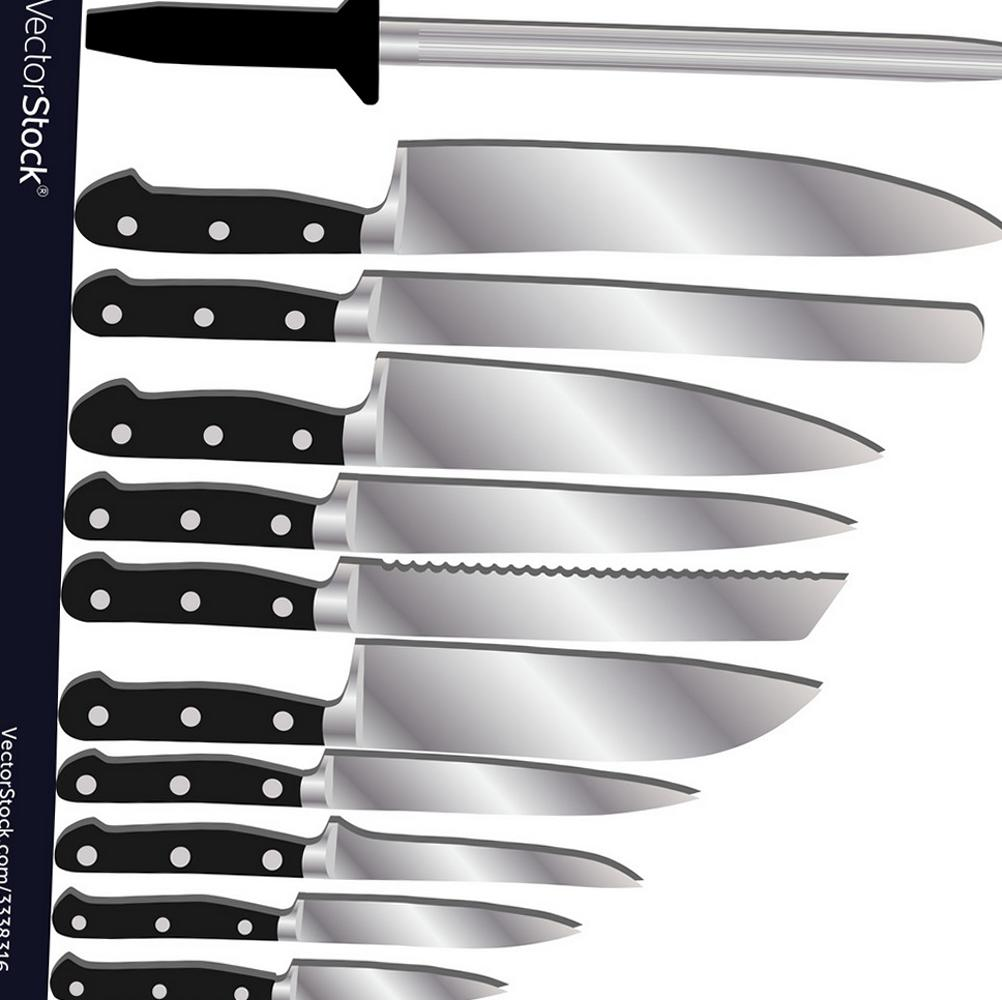knife: (78, 136, 1002, 260), (72, 351, 889, 471), (60, 640, 824, 762), (66, 471, 860, 551), (56, 807, 643, 895), (53, 746, 701, 818), (48, 884, 578, 948), (51, 948, 512, 1000)
